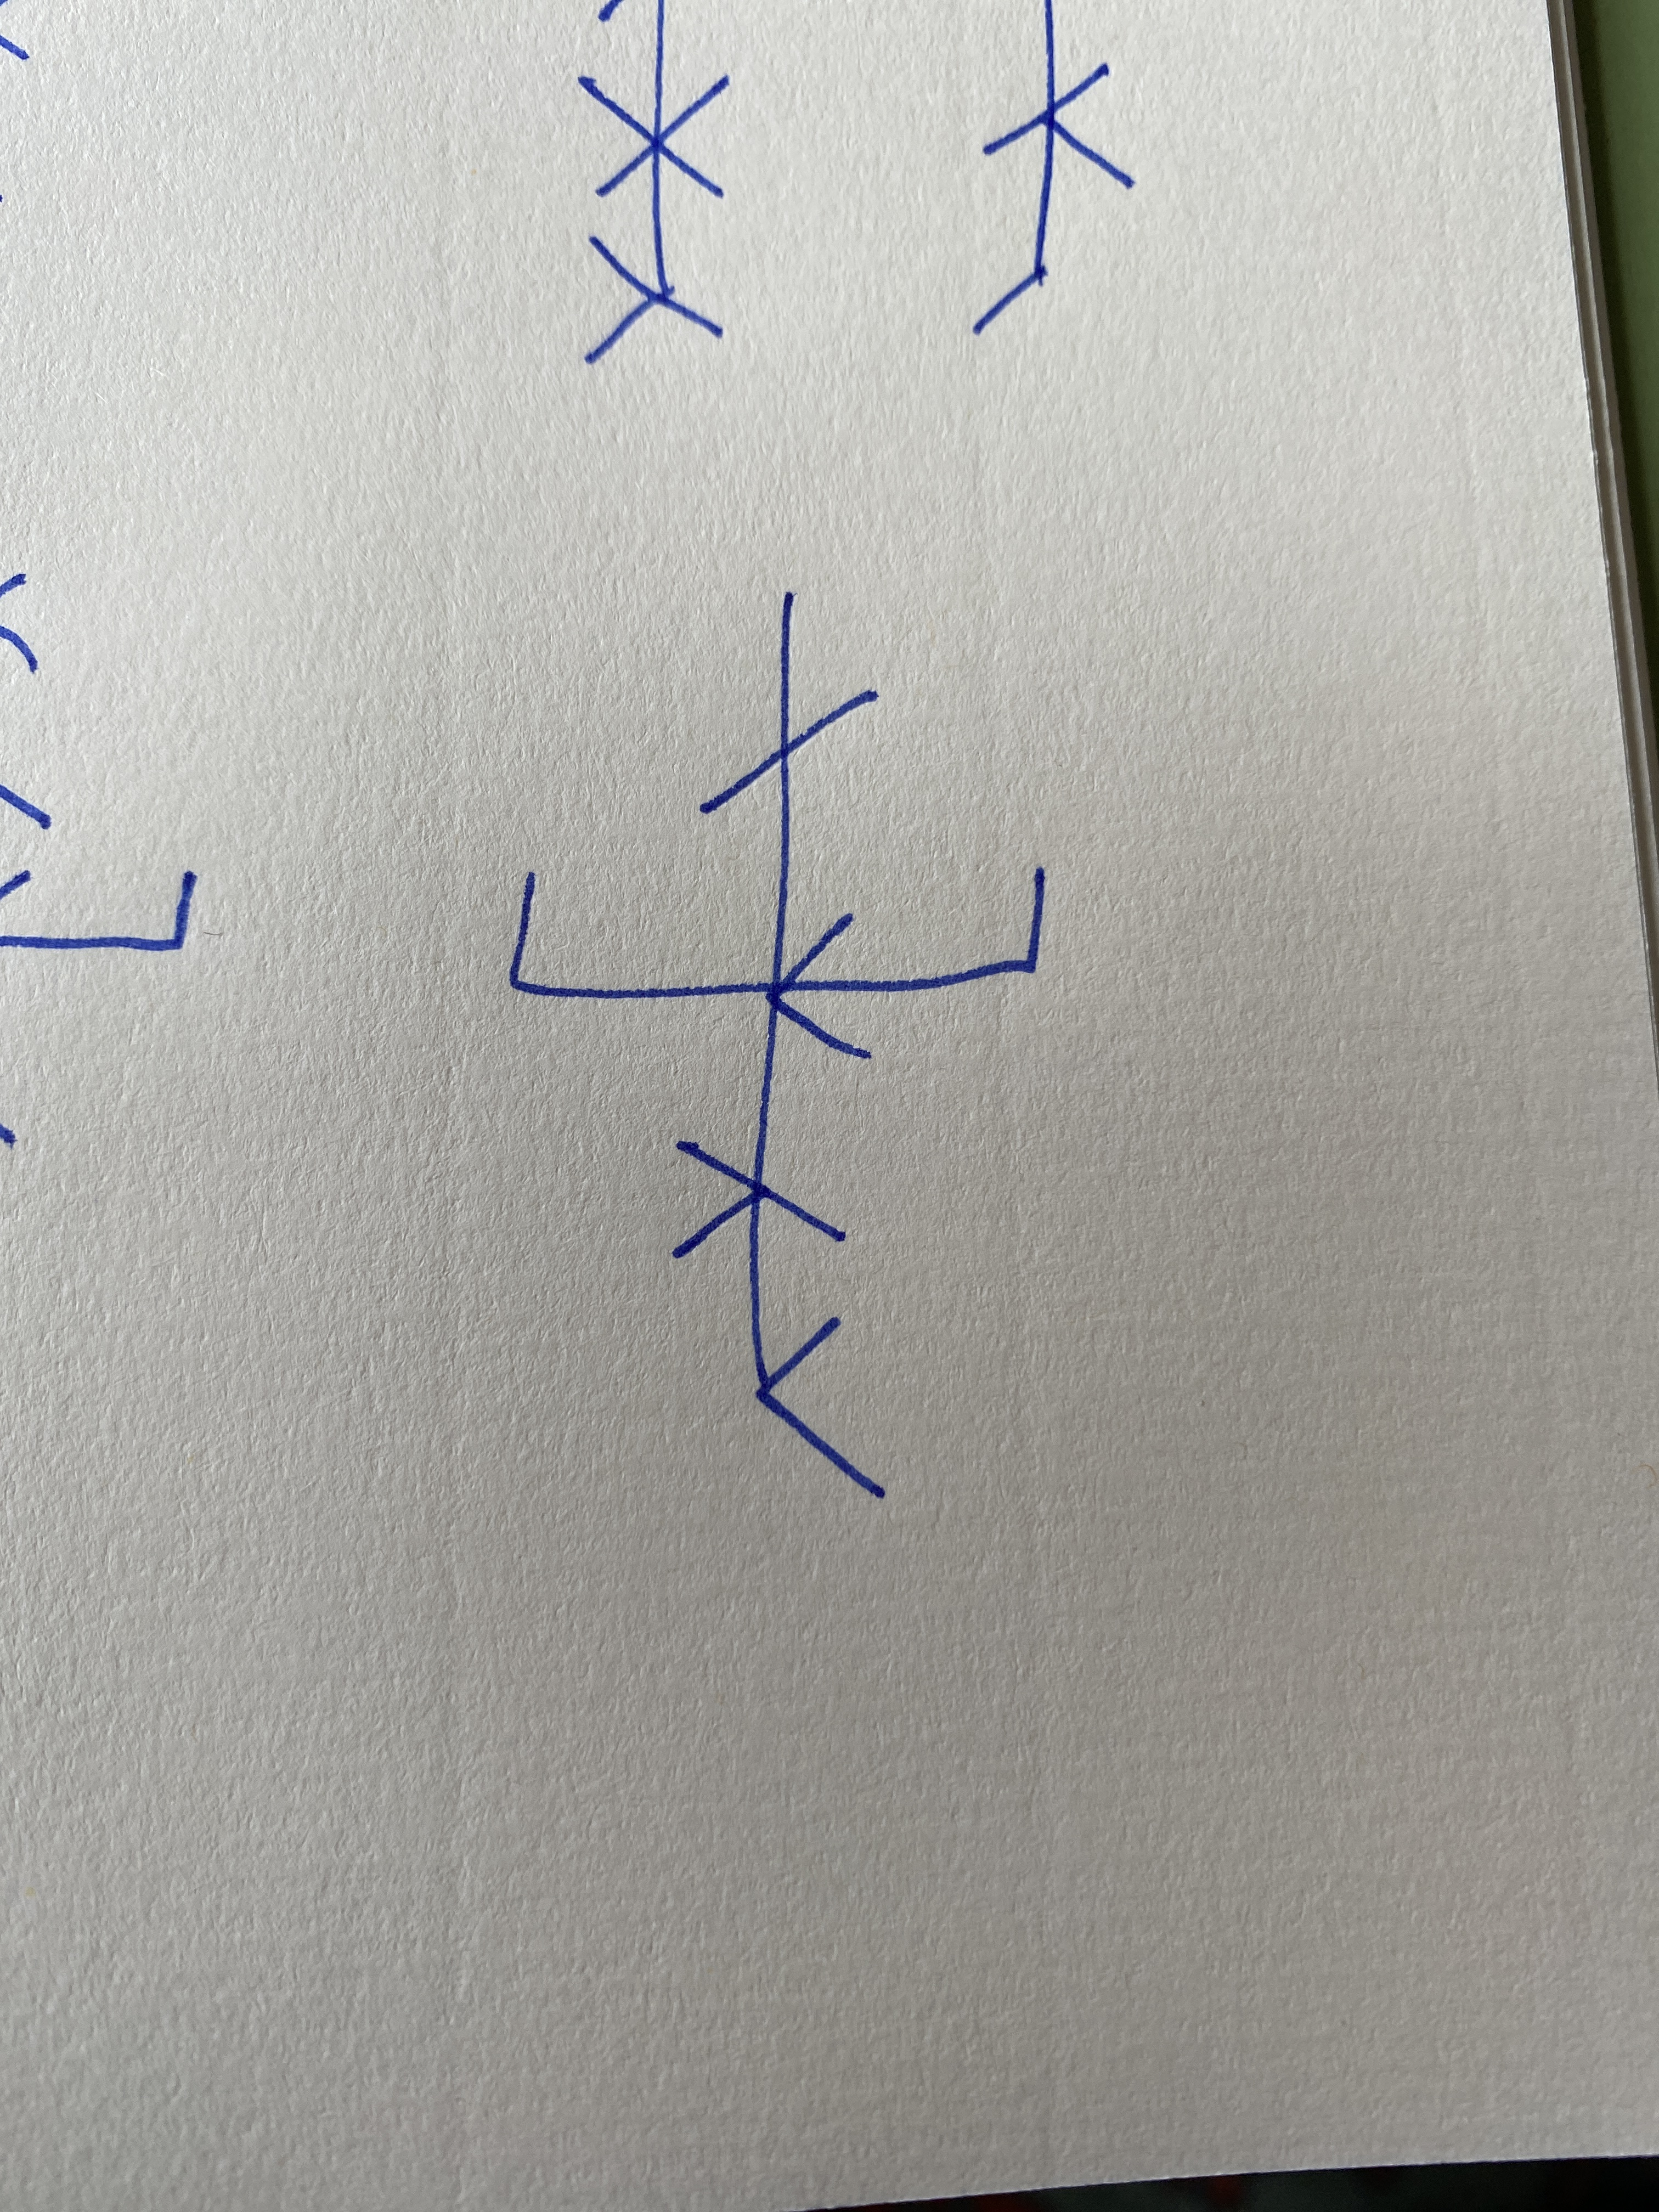Bar: (676, 589, 889, 1500)
Barcode: (504, 582, 1051, 1505)
End: (856, 867, 1051, 996)
Start: (500, 871, 767, 1001)
